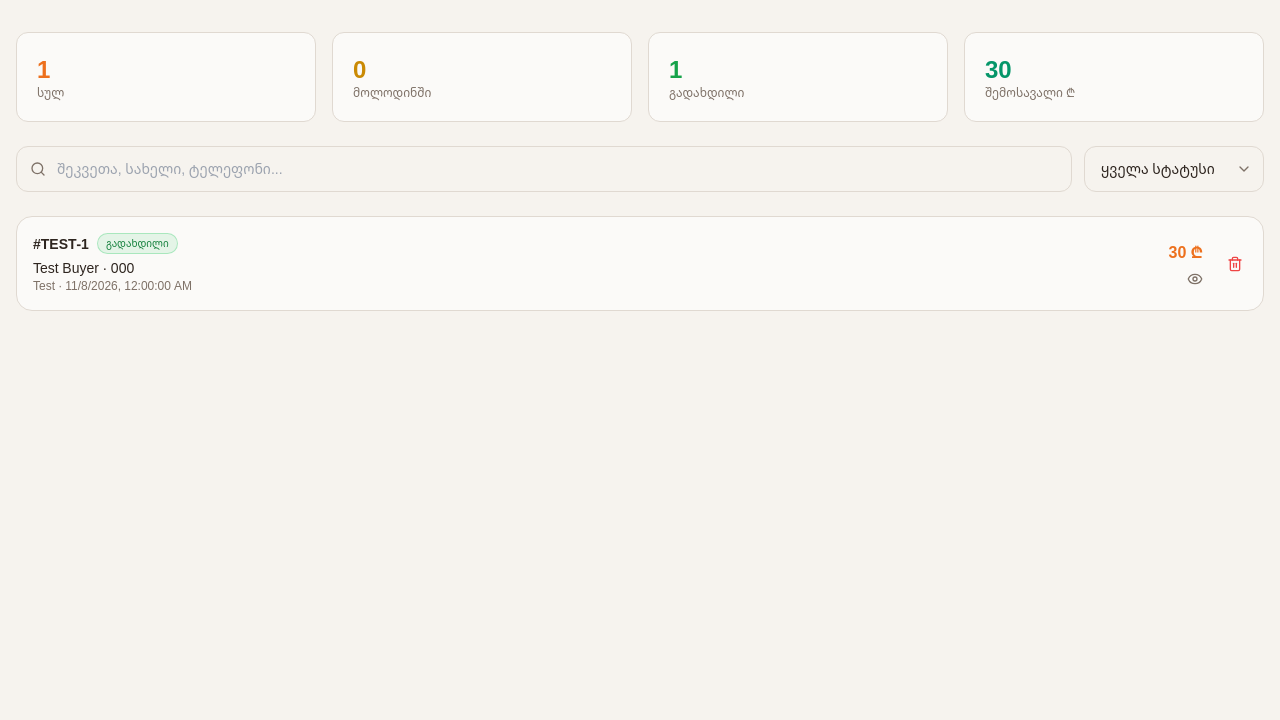
Scenario: order deletion › requires confirmation before deleting the selected purchased order
This screenshot has width=1280, height=720.
Step 1. Click the button "#TEST-1" → (65, 243), box [17, 217, 1219, 310]
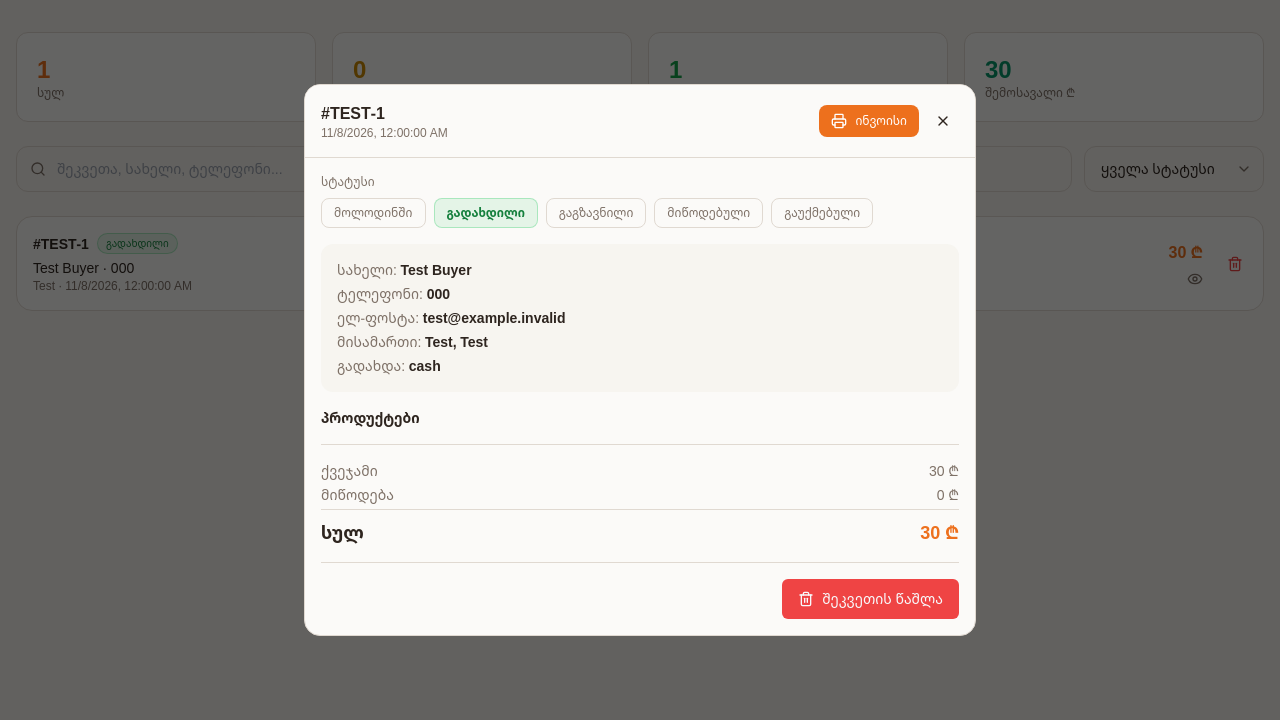
Step 2. Click the button "შეკვეთის წაშლა" → (871, 599), box [782, 579, 959, 619]
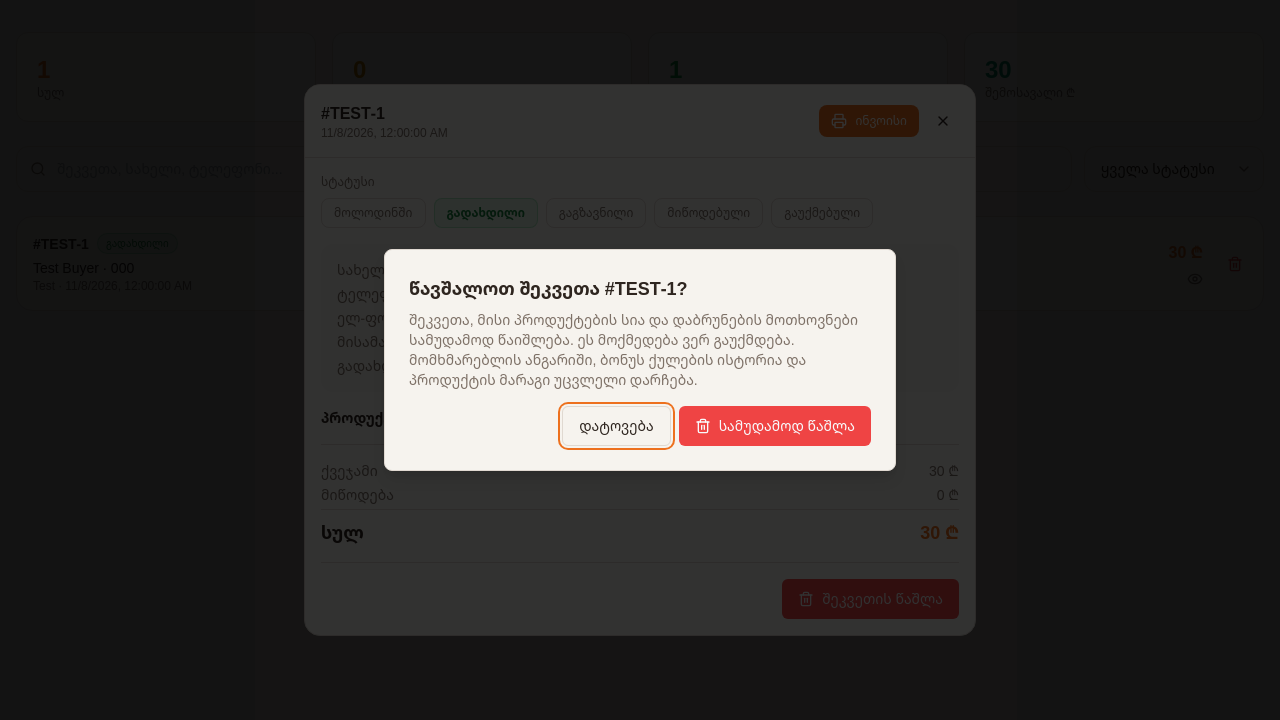
Step 3. Click the button "დატოვება" → (616, 426), box [562, 406, 671, 446]
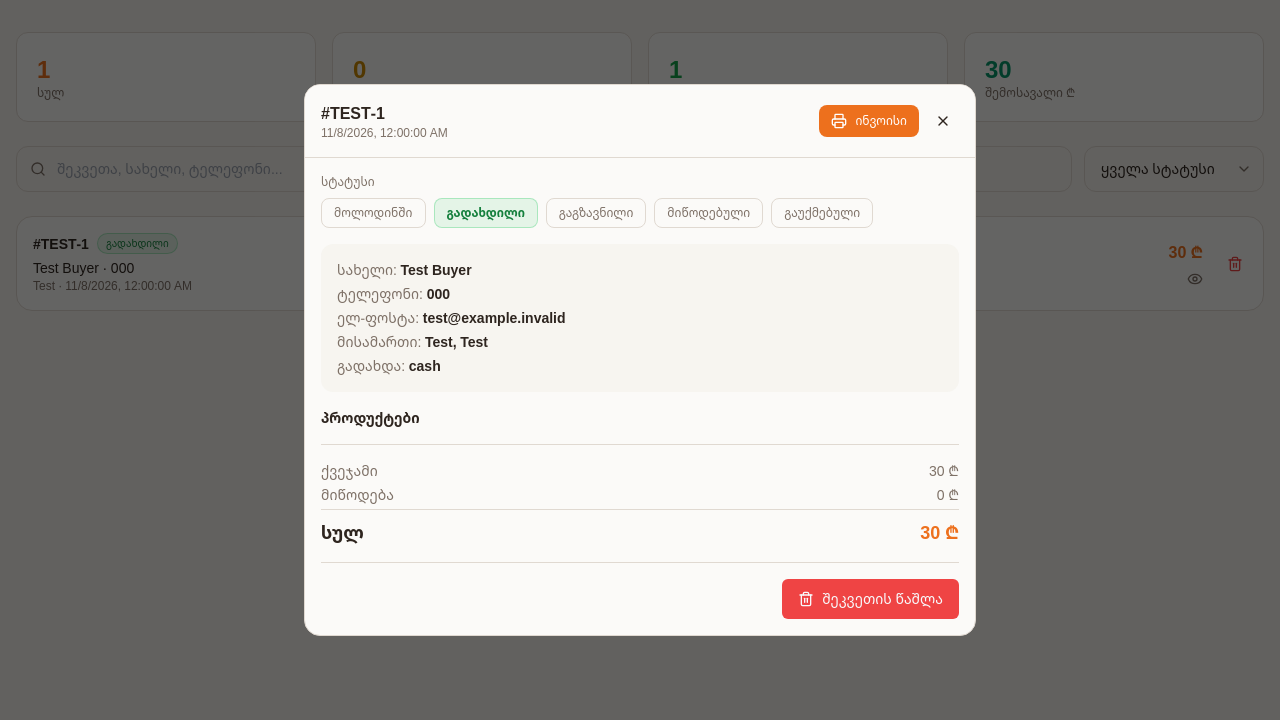
Step 4. Click the button "შეკვეთის წაშლა" → (871, 599), box [782, 579, 959, 619]
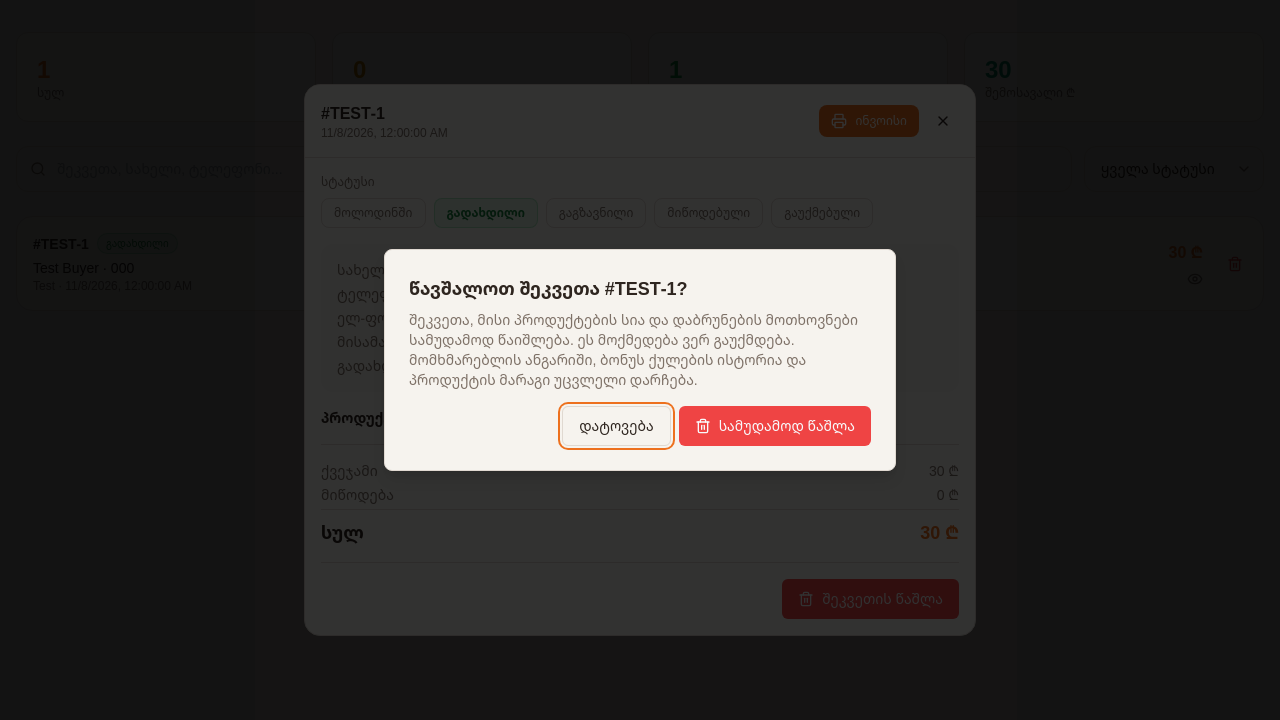
Step 5. Click the button "სამუდამოდ წაშლა" → (775, 426), box [679, 406, 871, 446]
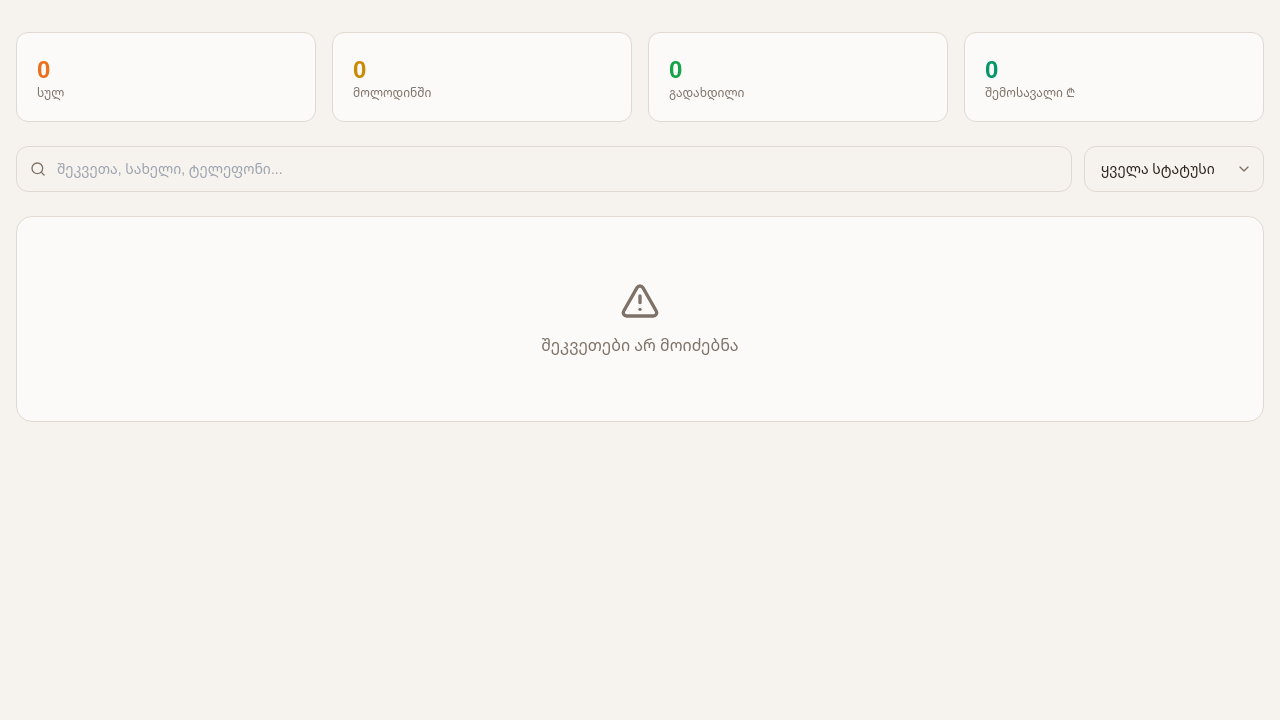
Check: the text "შეკვეთები არ მოიძებნა" is shown, box [541, 334, 739, 356]
